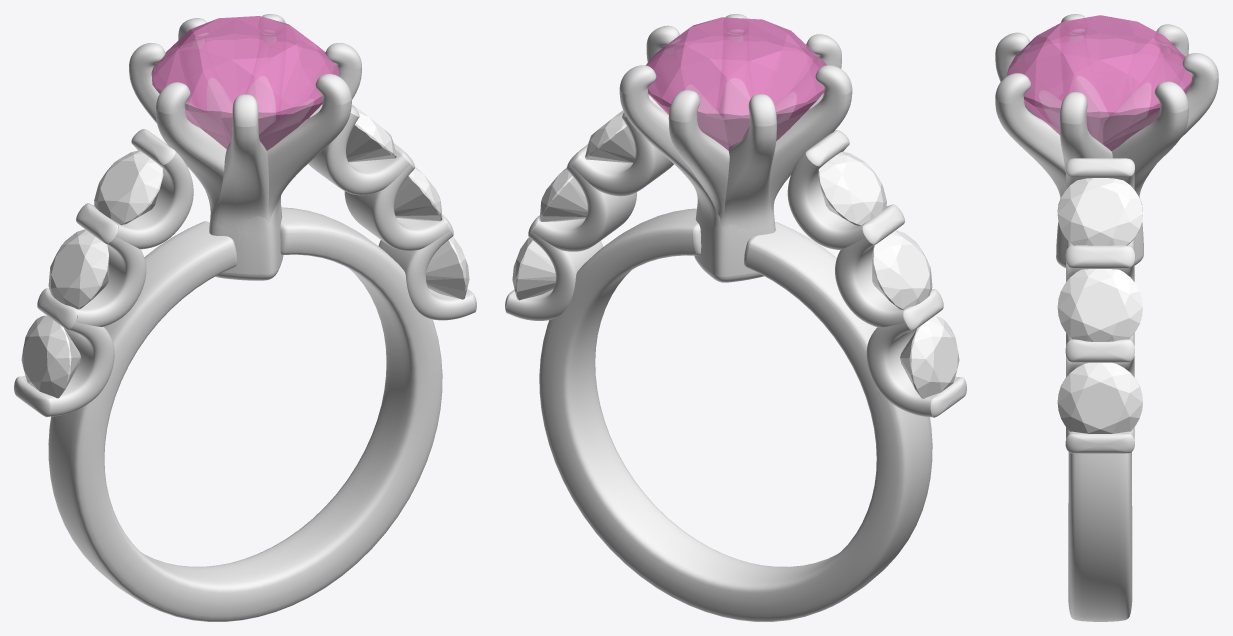
File: puzzle_21.glb
3 renders of one model, left to right at view 1: azimuth 30°, elevation 25°; view 2: azimuth 150°, elevation 25°; view 3: azimuth 270°, elevation 25°, orthographic.
Parts seen in each view (by area): view 1: G1_Obj_7_Gold2, G1_Obj_8_Gem6_X, G1_Obj_11_Gold2, G1_Obj_3_Gold2, G1_Obj_15_Gold2, G1_Obj_9_Gold2, G1_Obj_1_Gold2, G1_Obj_5_Gold2, G1_Obj_17_Dia, G1_Obj_16_Dia, G1_Obj_6_Gold2, G1_Obj_18_Dia (+9 smaller); view 2: G1_Obj_7_Gold2, G1_Obj_8_Gem6_X, G1_Obj_12_Gold2, G1_Obj_3_Gold2, G1_Obj_1_Gold2, G1_Obj_9_Gold2, G1_Obj_13_Gold2, G1_Obj_14_Gold2, G1_Obj_5_Gold2, G1_Obj_17_Dia, G1_Obj_16_Dia, G1_Obj_6_Gold2 (+9 smaller); view 3: G1_Obj_8_Gem6_X, G1_Obj_7_Gold2, G1_Obj_20_Dia, G1_Obj_21_Dia, G1_Obj_19_Dia, G1_Obj_15_Gold2, G1_Obj_14_Gold2, G1_Obj_4_Gold2, G1_Obj_6_Gold2, G1_Obj_13_Gold2, G1_Obj_10_Gold2, G1_Obj_12_Gold2 (+3 smaller).
Part boxes in pixels (bbox=[...]): G1_Obj_7_Gold2: bbox=[48, 207, 442, 621]; G1_Obj_8_Gem6_X: bbox=[151, 16, 339, 150]; G1_Obj_11_Gold2: bbox=[211, 94, 282, 275]; G1_Obj_3_Gold2: bbox=[76, 129, 193, 249]; G1_Obj_15_Gold2: bbox=[209, 74, 351, 275]; G1_Obj_9_Gold2: bbox=[156, 82, 282, 279]; G1_Obj_1_Gold2: bbox=[14, 288, 114, 417]; G1_Obj_5_Gold2: bbox=[344, 163, 449, 250]; G1_Obj_17_Dia: bbox=[48, 229, 108, 309]; G1_Obj_16_Dia: bbox=[94, 150, 163, 225]; G1_Obj_6_Gold2: bbox=[308, 105, 414, 195]; G1_Obj_18_Dia: bbox=[21, 315, 80, 398]; G1_Obj_7_Gold2: bbox=[539, 208, 932, 621]; G1_Obj_8_Gem6_X: bbox=[646, 17, 826, 150]; G1_Obj_12_Gold2: bbox=[694, 94, 776, 282]; G1_Obj_3_Gold2: bbox=[787, 130, 904, 249]; G1_Obj_1_Gold2: bbox=[866, 289, 966, 417]; G1_Obj_9_Gold2: bbox=[702, 65, 852, 281]; G1_Obj_13_Gold2: bbox=[668, 90, 753, 278]; G1_Obj_14_Gold2: bbox=[619, 65, 775, 282]; G1_Obj_5_Gold2: bbox=[532, 164, 636, 251]; G1_Obj_17_Dia: bbox=[872, 230, 932, 310]; G1_Obj_16_Dia: bbox=[818, 151, 886, 225]; G1_Obj_6_Gold2: bbox=[567, 94, 673, 196]; G1_Obj_8_Gem6_X: bbox=[1007, 15, 1192, 151]; G1_Obj_7_Gold2: bbox=[1068, 452, 1132, 621]; G1_Obj_20_Dia: bbox=[1057, 269, 1142, 341]; G1_Obj_21_Dia: bbox=[1057, 362, 1142, 433]; G1_Obj_19_Dia: bbox=[1057, 178, 1142, 245]; G1_Obj_15_Gold2: bbox=[995, 73, 1143, 262]; G1_Obj_14_Gold2: bbox=[1056, 81, 1188, 262]; G1_Obj_4_Gold2: bbox=[1065, 339, 1134, 453]; G1_Obj_6_Gold2: bbox=[1065, 158, 1134, 267]; G1_Obj_13_Gold2: bbox=[1057, 53, 1218, 262]; G1_Obj_10_Gold2: bbox=[1058, 92, 1141, 265]; G1_Obj_12_Gold2: bbox=[1056, 24, 1188, 268].
Size of the model in its own units: 2.34 by 2.92 by 1.05.
